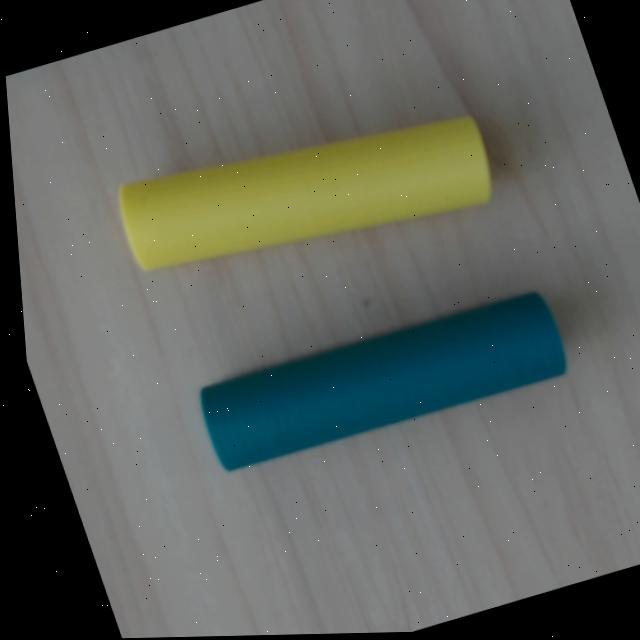Silinder-Hijau-10025: (195, 286, 570, 472)
Silinder-Kuning-10025: (115, 112, 496, 272)
